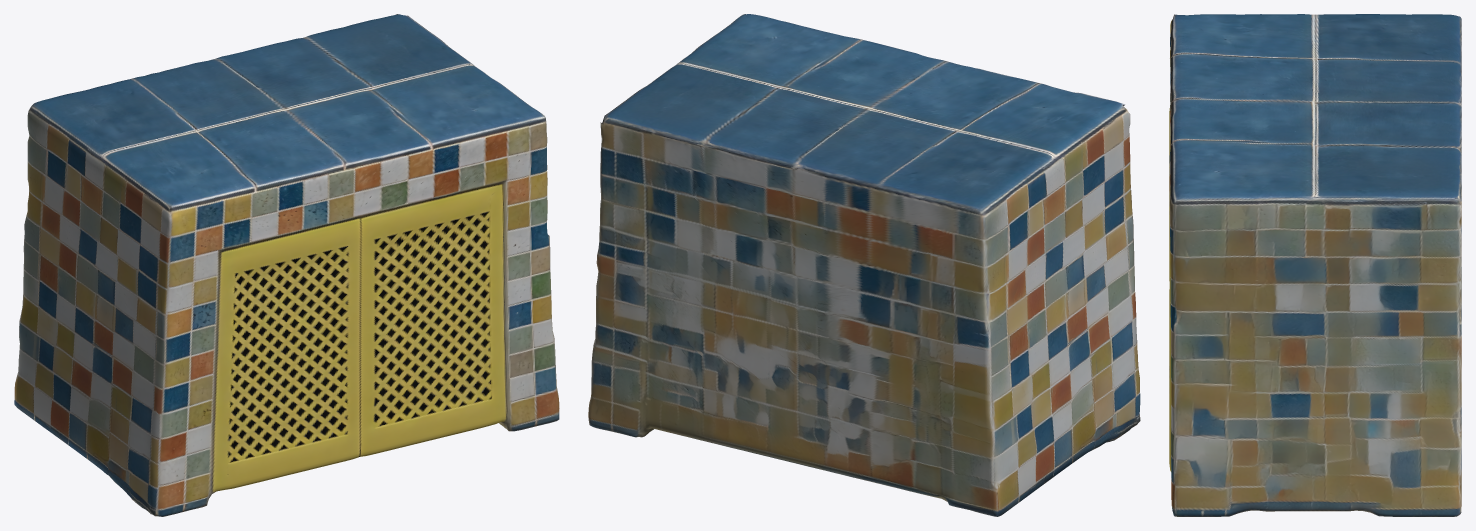
File: candidate-cabinet.glb
The picture shows the model from 3 angles, left to right: view 1: azimuth 30°, elevation 25°; view 2: azimuth 150°, elevation 25°; view 3: azimuth 270°, elevation 25°; orthographic projection.
Parts seen in each view (by area): view 1: model; view 2: model; view 3: model.
Part boxes in pixels (x1,y1,x2,y2): model: (14,14,559,516); model: (588,14,1140,516); model: (1169,14,1461,516).
Bounding box in the file's own units: 1.89 × 1.4 × 1.17.
Materials: 1 (1 with a texture image).
